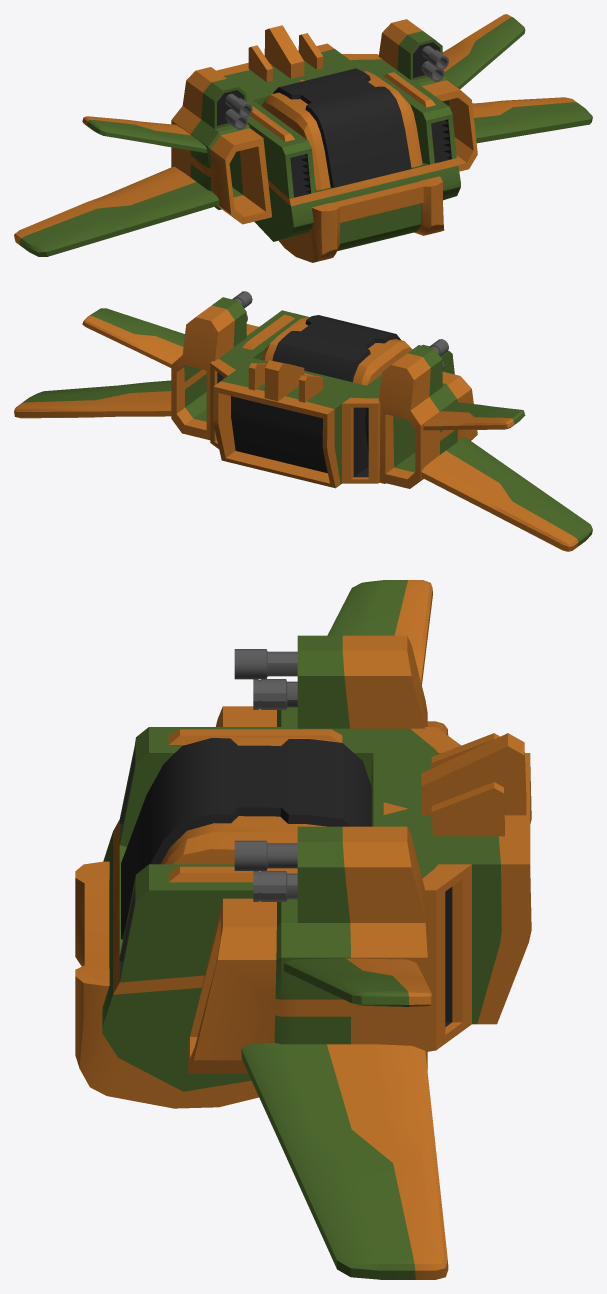
Rendered from battleship.glb.
The picture shows the model from 3 angles, top to bottom: view 1: azimuth 30°, elevation 25°; view 2: azimuth 150°, elevation 25°; view 3: azimuth 270°, elevation 25°; orthographic projection. The views are drawn at different scales.
Visible parts, largest first — view 1: Spaceship_FinnTheFrog; view 2: Spaceship_FinnTheFrog; view 3: Spaceship_FinnTheFrog.
Boxes of the visible parts, box(x1,y1,x2,y2) form: Spaceship_FinnTheFrog: box(14, 14, 592, 262); Spaceship_FinnTheFrog: box(14, 291, 592, 551); Spaceship_FinnTheFrog: box(75, 580, 531, 1279).
Bounding box in the file's own units: 11.62 × 3.06 × 4.11.
Materials: 1 (1 with a texture image).
